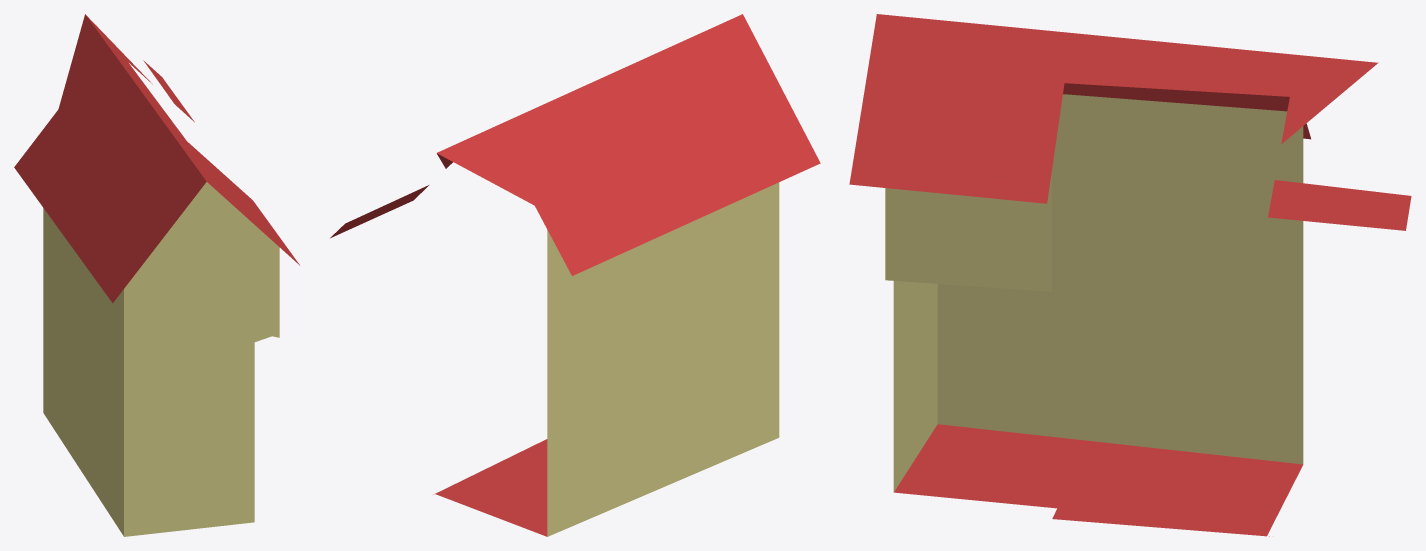
3 views of the same model, side by side, from view 1: azimuth 30°, elevation 25°; view 2: azimuth 150°, elevation 25°; view 3: azimuth 270°, elevation 25° (orthographic). The views are drawn at different scales.
Size of the model in its own units: 9.87 by 15.39 by 13.46.
